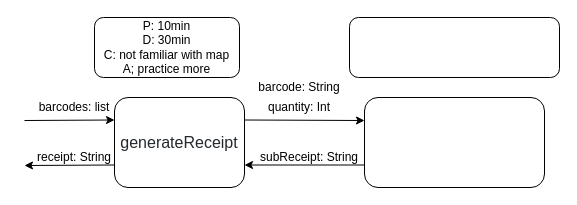
Some shapes in this 577 by 205 pixel diagram are drawn without their labels. Each missing label, with the centre of its shape:
generateSubStringForItem: (x=454, y=142)
P: 3min D: 15min C: not familar with list.stream.filter A; practice more: (x=454, y=47)
